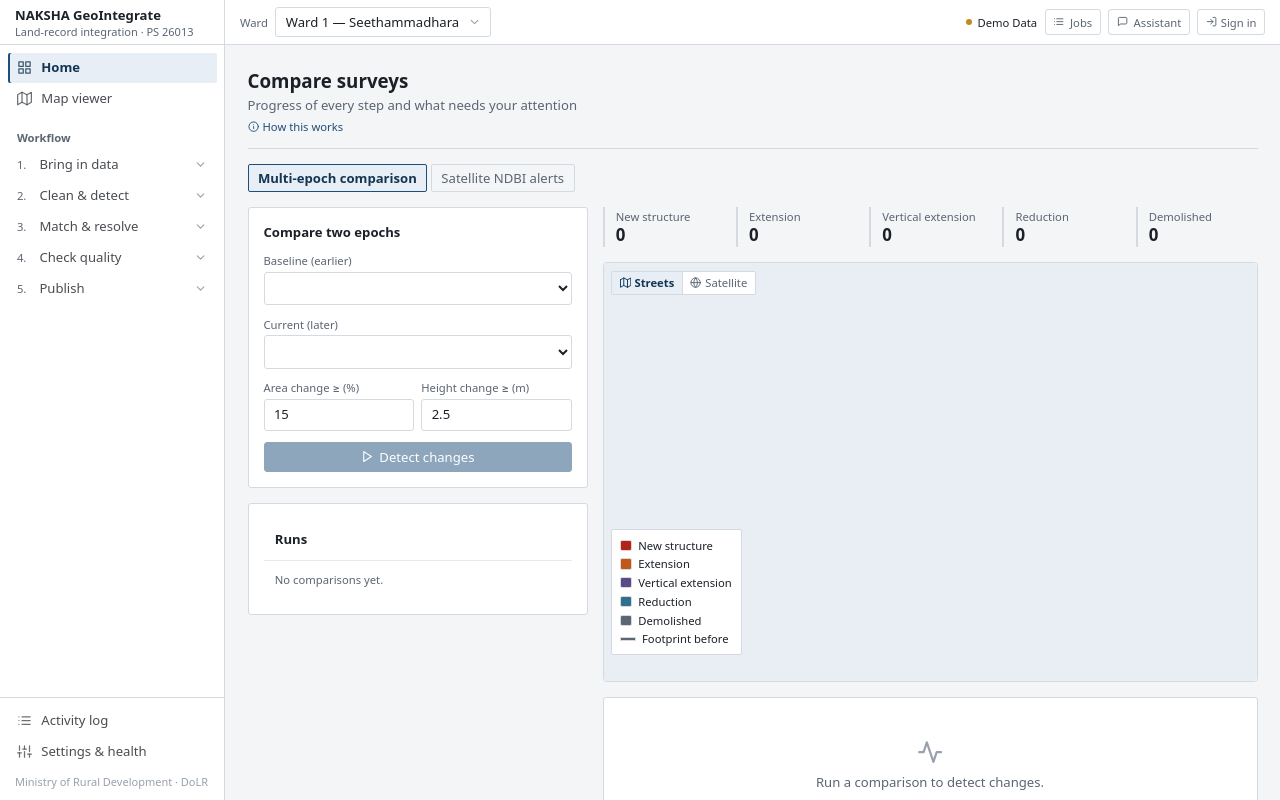
Test: ChangeDetectionPage › still shows NDBI satellite alerts with verification
Click the tab "Satellite NDBI alerts". click: (503, 178)
box: [431,164,575,192]
(page scrolled)
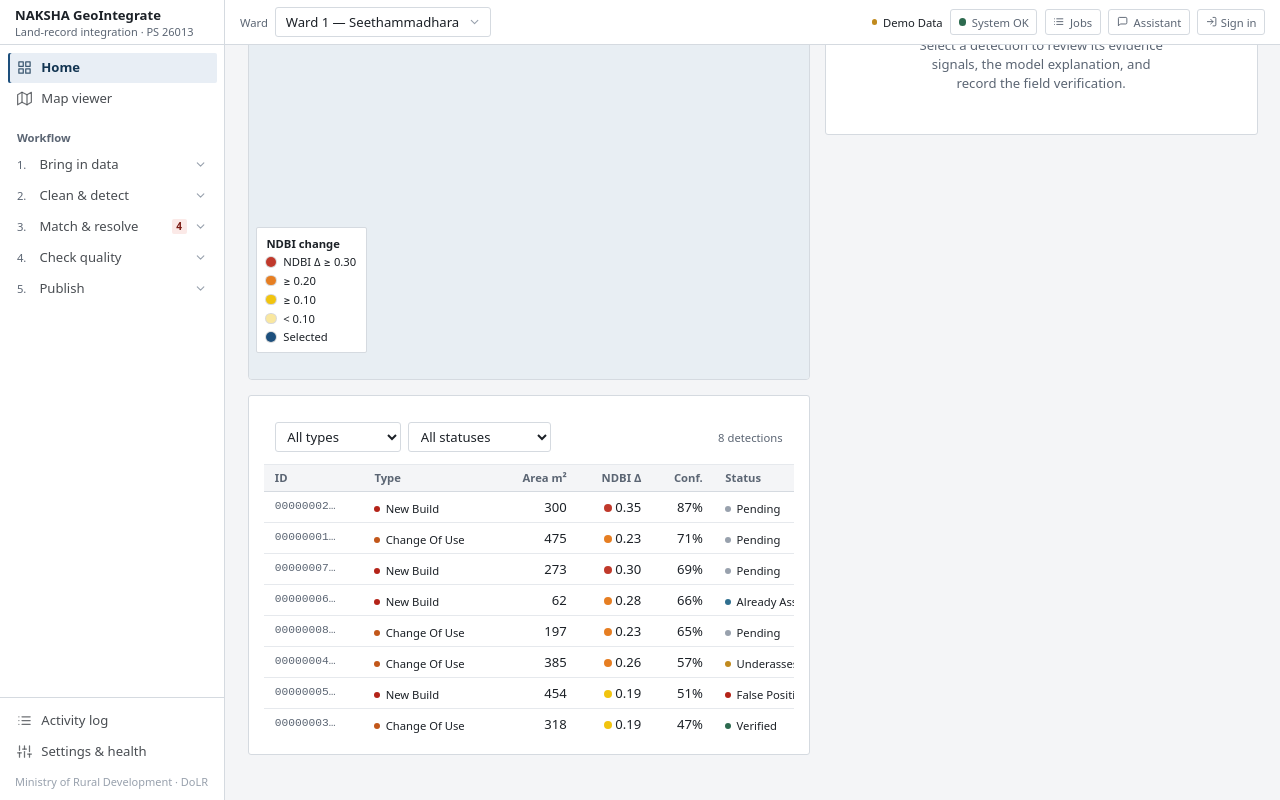
Click the row "00000002… New build 300 0.35 87% Pending". click: (564, 507)
box: [264,492,864,522]
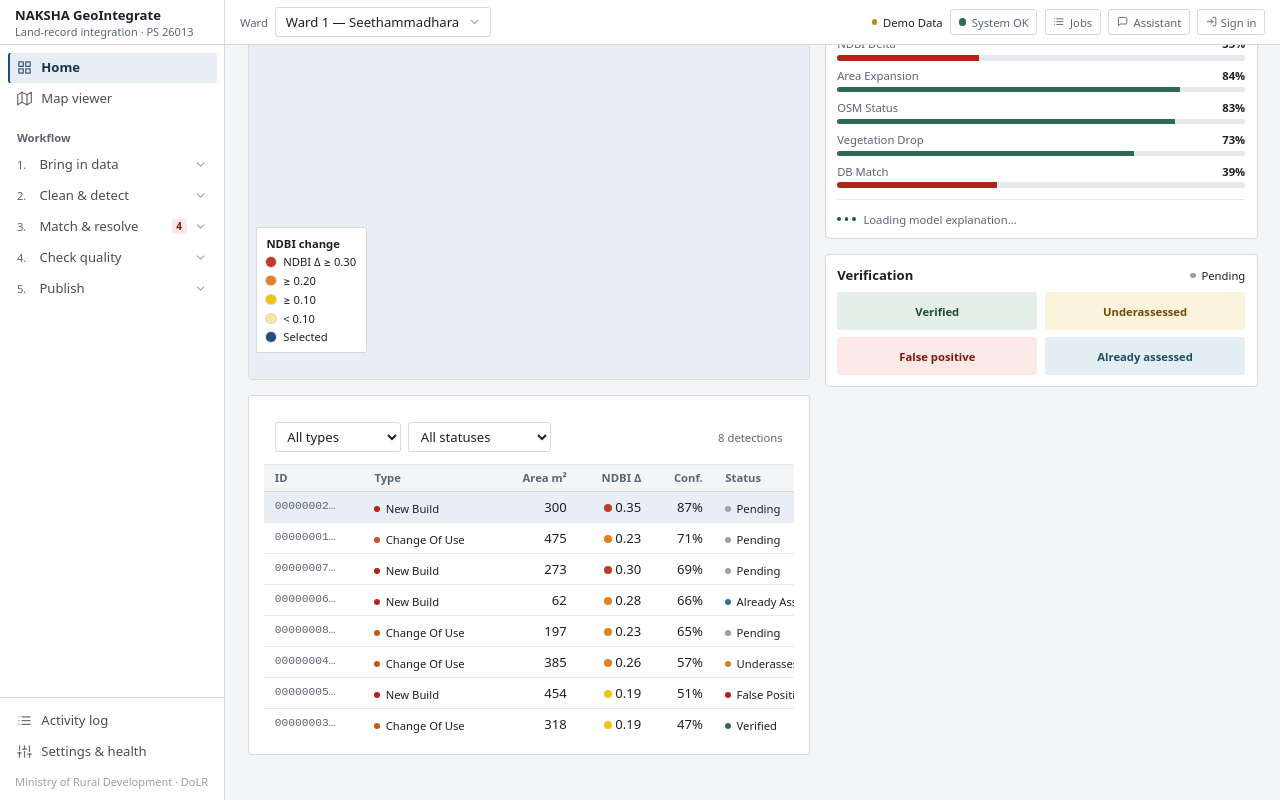
Now the heading "Verification" is shown, box [837,266,913,285]
Click the button "Verified". click: (937, 311)
box: [837,292,1037,330]
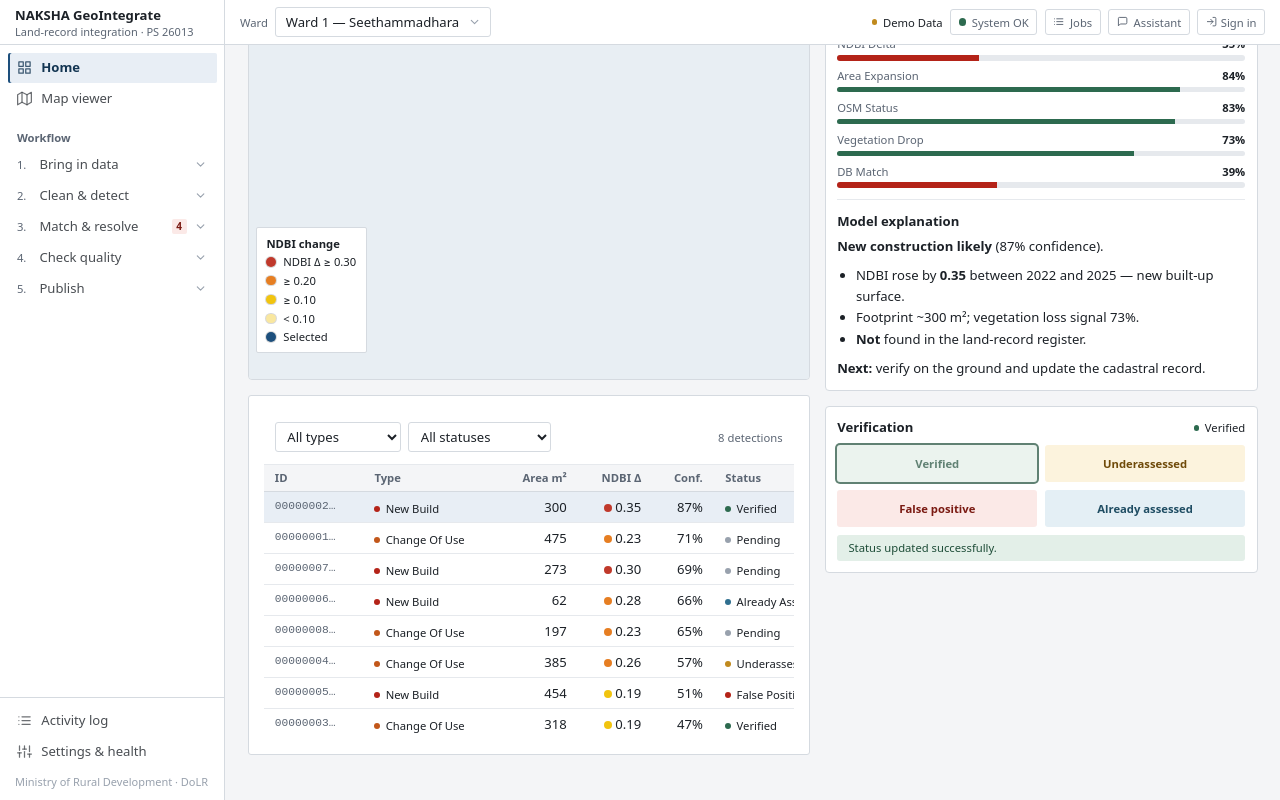
Now the text "Status updated successfully." is shown, box [837,535,1245,561]
